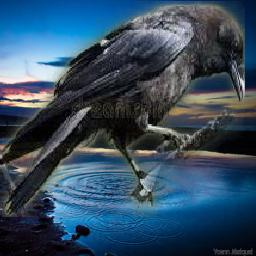Crow: (1, 1, 246, 217)
